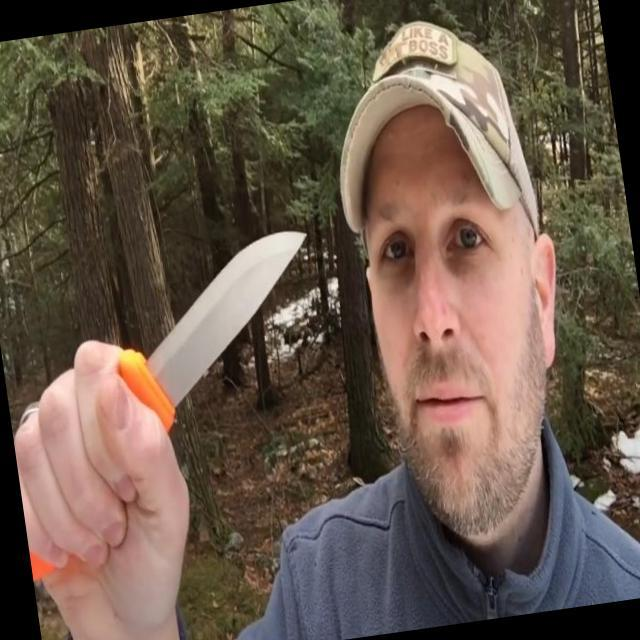Knife: (23, 214, 354, 562)
